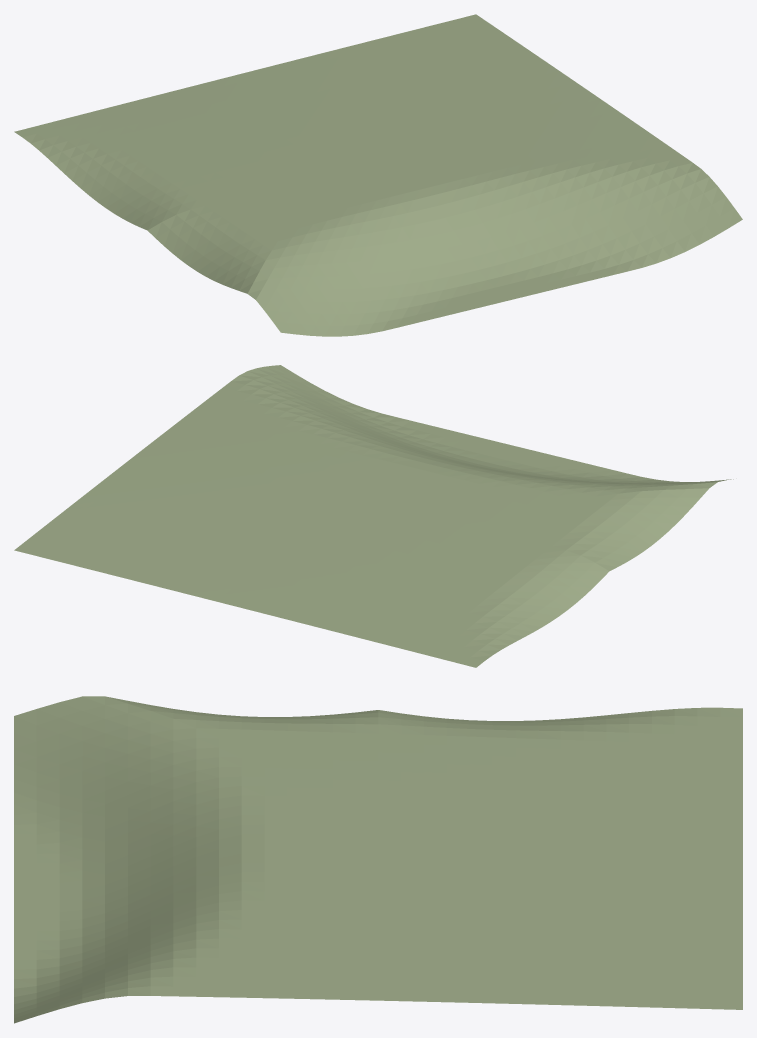
Rendered from gardens-1-0.glb.
3 views of the same model, one above another, from view 1: azimuth 30°, elevation 25°; view 2: azimuth 150°, elevation 25°; view 3: azimuth 270°, elevation 25° (orthographic). The views are drawn at different scales.
Parts seen in each view (by area): view 1: gardens-1-0; view 2: gardens-1-0; view 3: gardens-1-0.
Boxes of the visible parts, x1,y1,x2,y2 form: gardens-1-0: (14, 14, 742, 336); gardens-1-0: (14, 365, 733, 667); gardens-1-0: (14, 696, 742, 1023).
Size of the model in its own units: 256 by 23.39 by 256.
